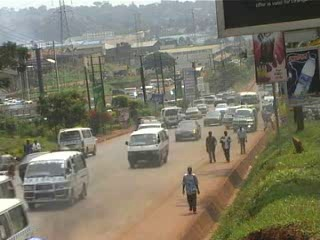Car: (17, 149, 57, 183), (174, 118, 204, 144), (132, 120, 168, 135), (203, 110, 225, 127), (185, 105, 203, 120), (213, 102, 230, 115), (193, 101, 209, 113)
